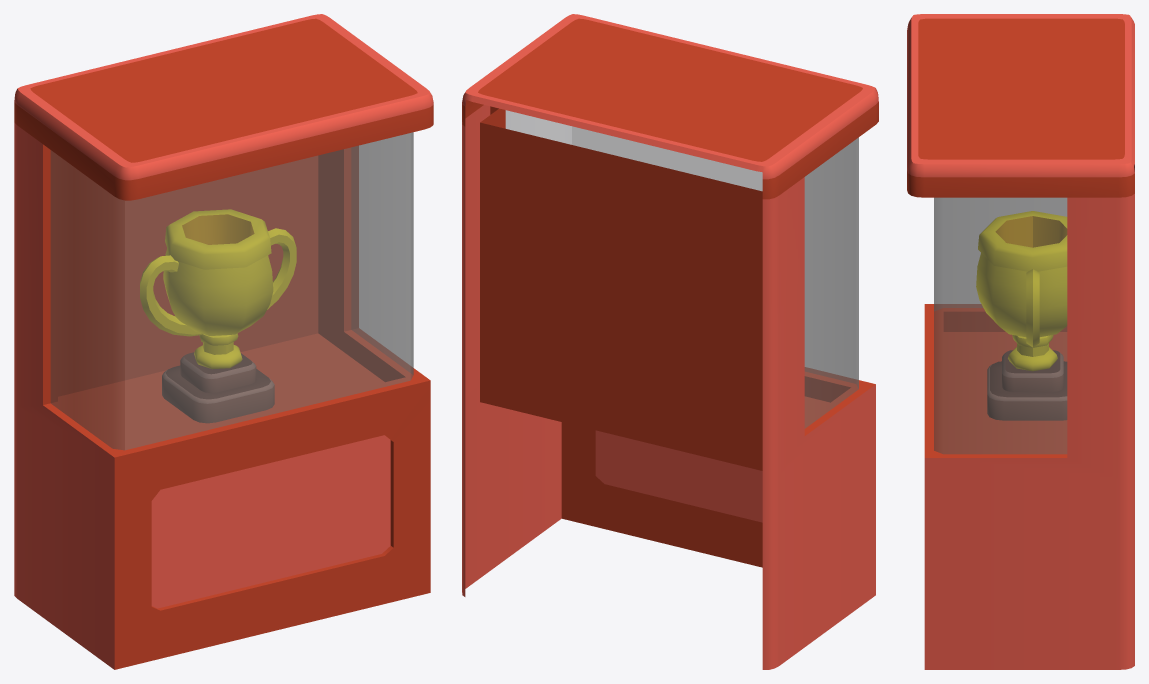
The model's file is Traphy Table.fbx.
3 renders of one model, left to right at view 1: azimuth 30°, elevation 25°; view 2: azimuth 150°, elevation 25°; view 3: azimuth 270°, elevation 25°, orthographic.
Parts seen in each view (by area): view 1: Traphy Table; view 2: Traphy Table; view 3: Traphy Table.
Boxes of the visible parts, box(x1,y1,x2,y2) form: Traphy Table: box(14, 14, 433, 669); Traphy Table: box(462, 14, 878, 669); Traphy Table: box(907, 14, 1134, 669).
Size of the model in its own units: 8.04 by 12.27 by 5.03.
